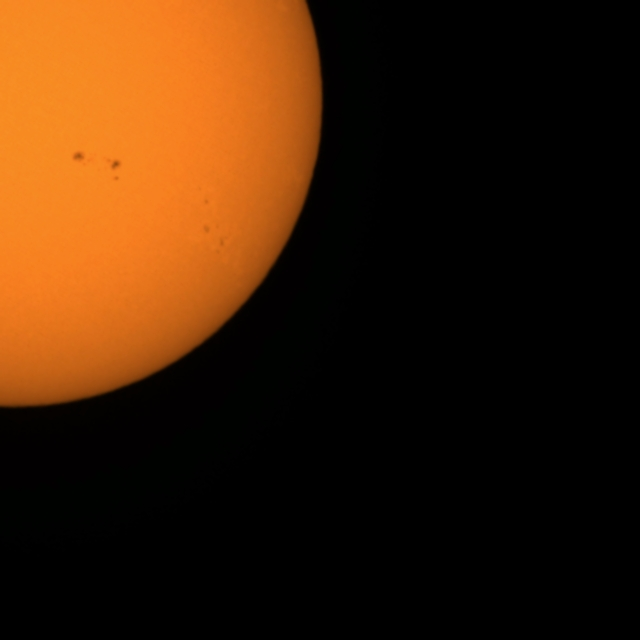sunspot: (69, 149, 125, 183), (202, 223, 227, 255), (105, 156, 124, 184), (70, 149, 88, 166)
